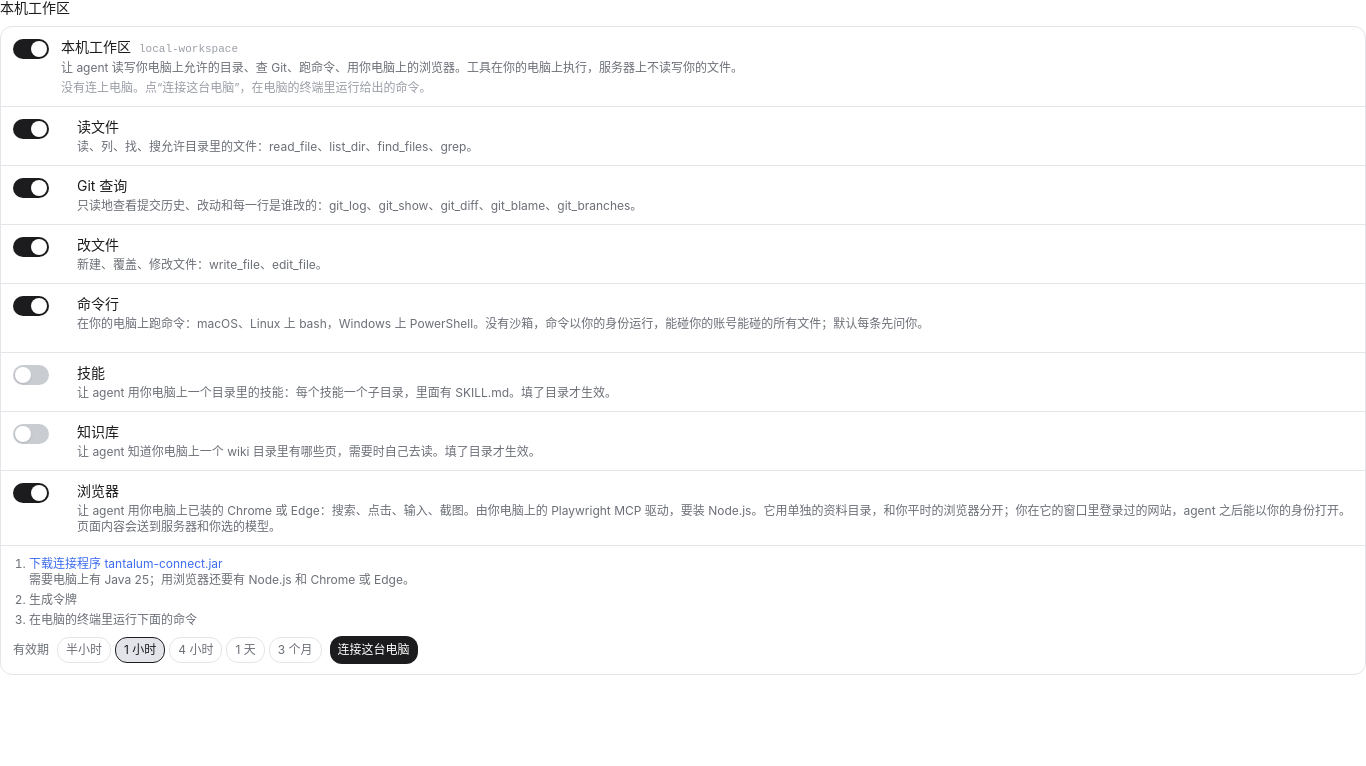
Test: LocalWorkspaceCard › the browser item › tells in the connect steps to add --allow-browser
The image size is (1366, 766).
Click the button "连接这台电脑" at point(374, 650), box 330,636 -> 418,664
(page scrolled)
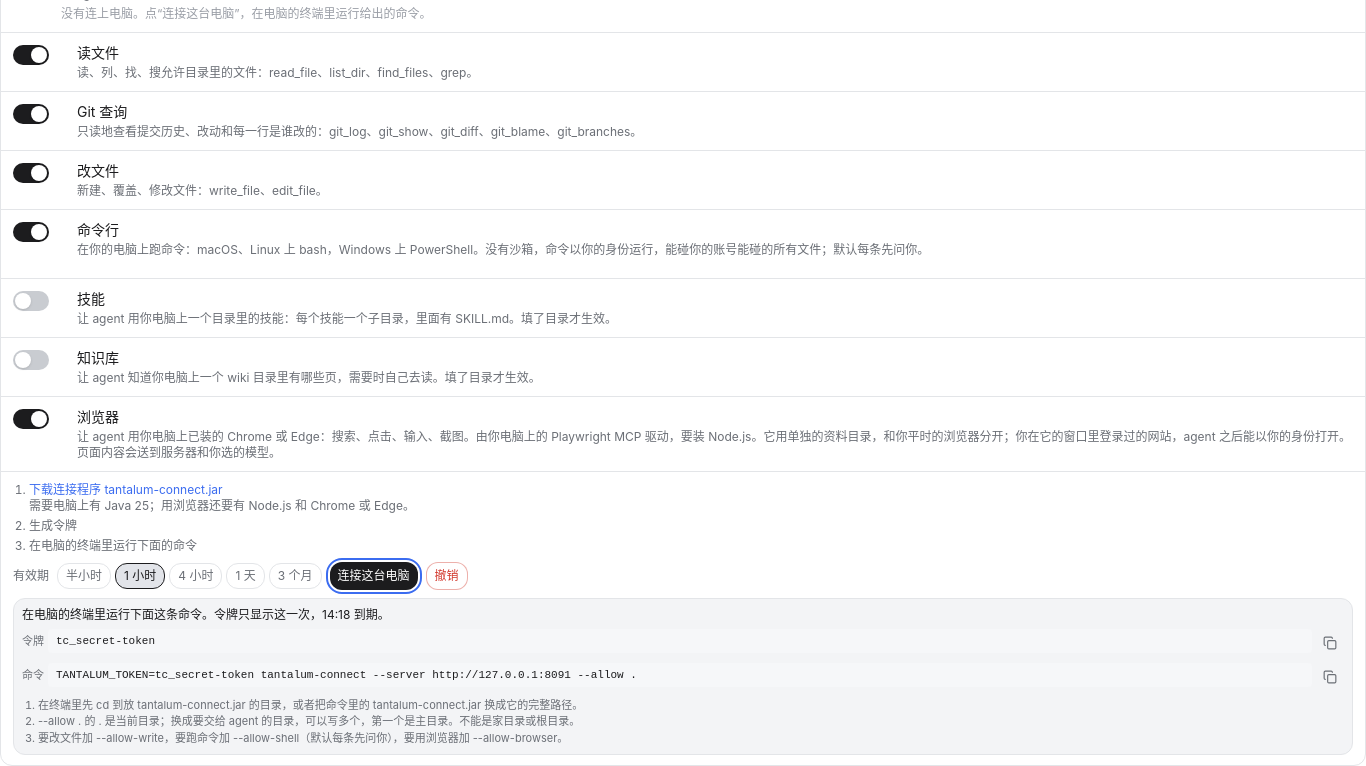
Expected: the list item "要用浏览器加 --allow-browser" is shown, 38,731 -> 568,745
